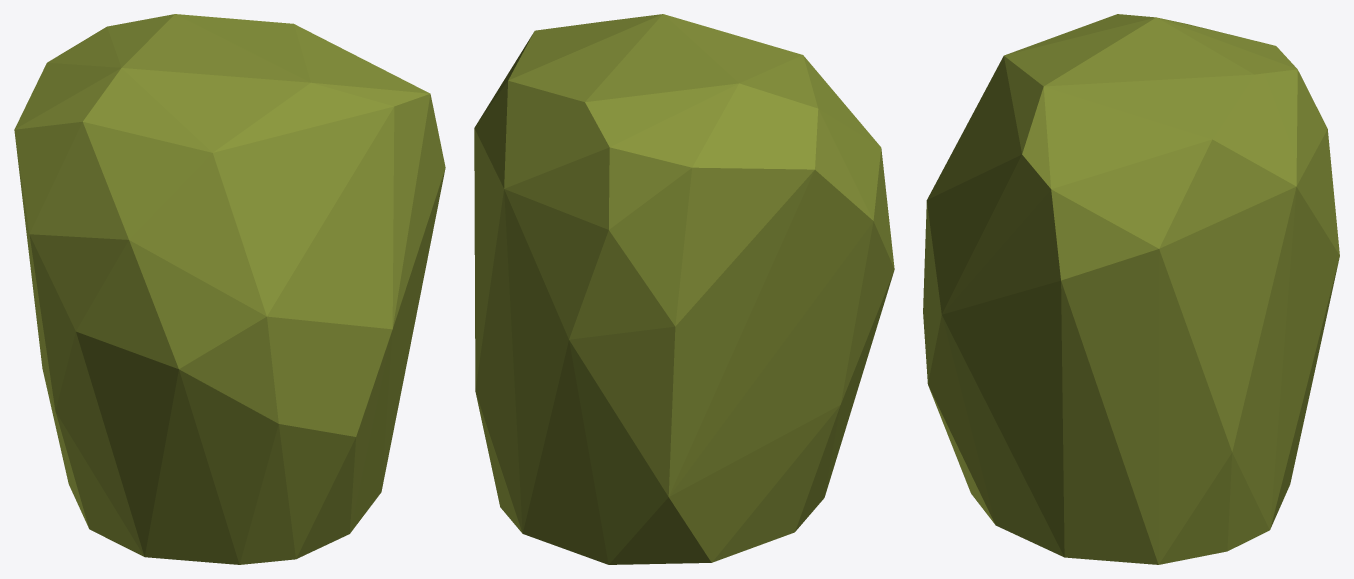
The model's file is ea_swamp_grass_02e_pre__6__lev1.glb.
3 views of the same model, side by side, from view 1: azimuth 30°, elevation 25°; view 2: azimuth 150°, elevation 25°; view 3: azimuth 270°, elevation 25° (orthographic). The views are drawn at different scales.
Parts seen in each view (by area): view 1: ea_swamp_grass_02e_pre__6__lev1; view 2: ea_swamp_grass_02e_pre__6__lev1; view 3: ea_swamp_grass_02e_pre__6__lev1.
Part boxes in pixels (box(x1,y1,x2,y2)): ea_swamp_grass_02e_pre__6__lev1: box(14, 14, 445, 564); ea_swamp_grass_02e_pre__6__lev1: box(474, 14, 894, 564); ea_swamp_grass_02e_pre__6__lev1: box(923, 14, 1339, 564).
Bounding box in the file's own units: 1.43 × 1.56 × 1.35.
1 material, 1 textured.
